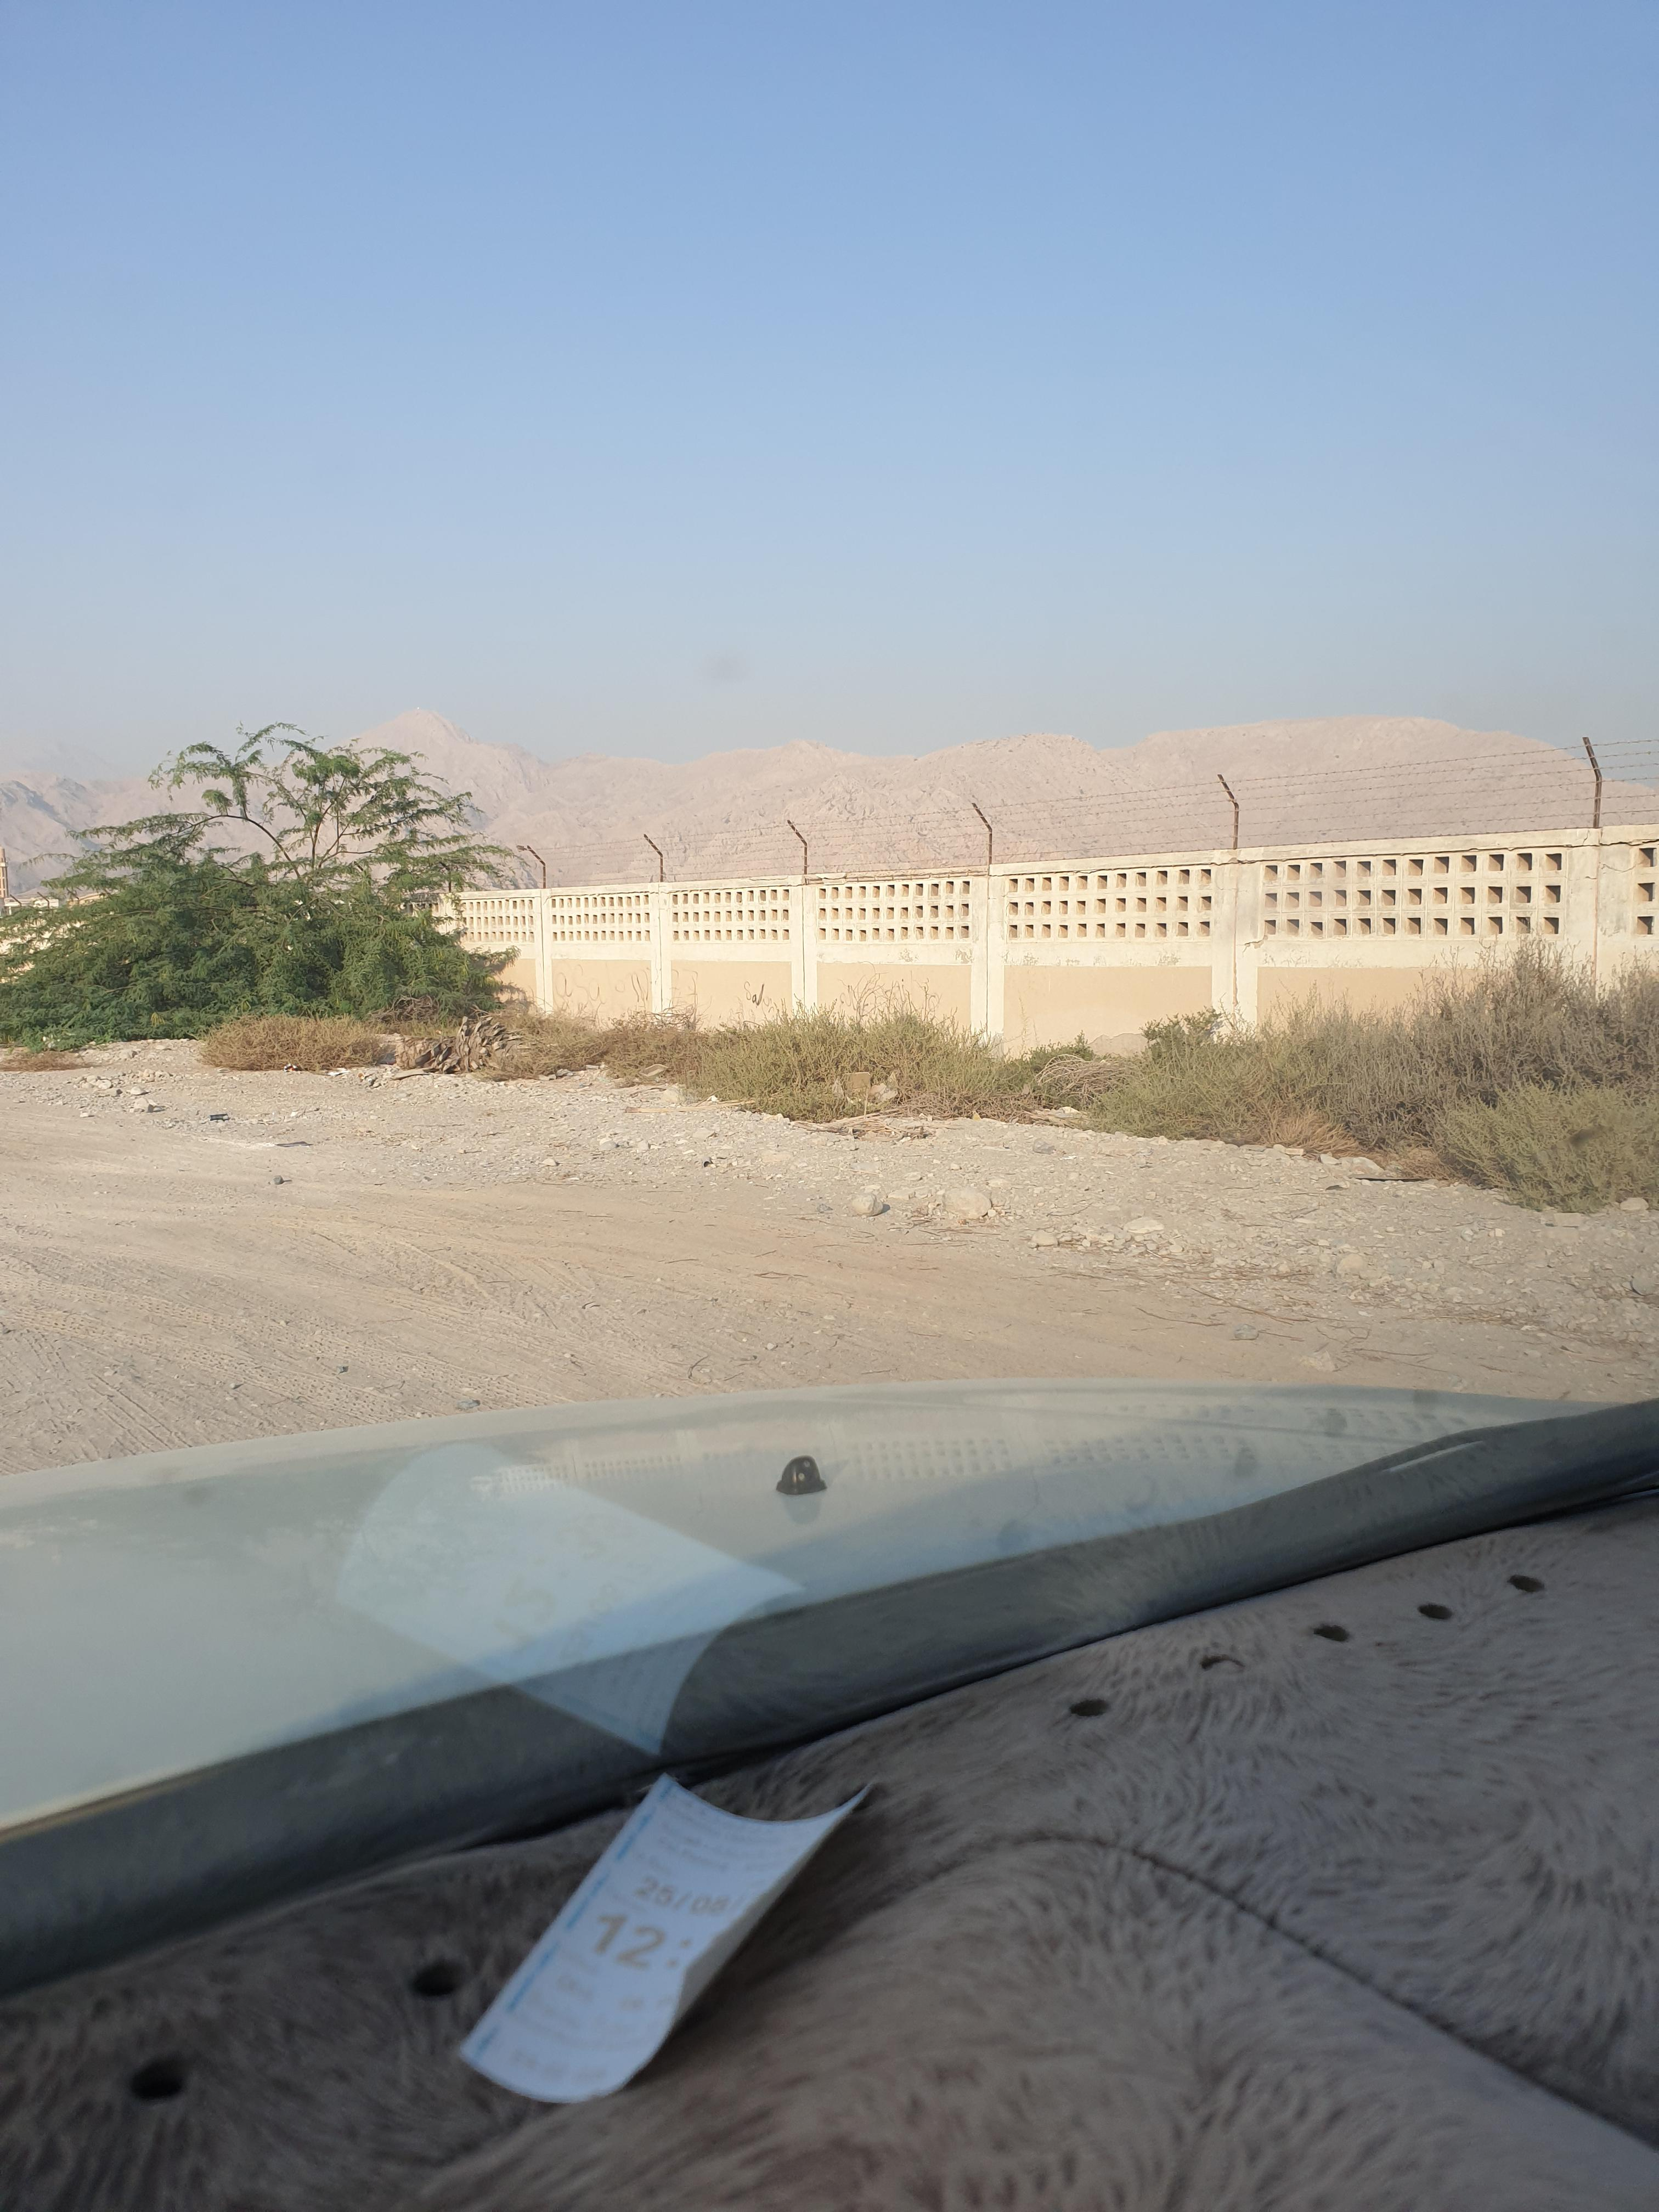fallen_trees: (413, 1022, 533, 1071), (805, 1113, 939, 1148)
